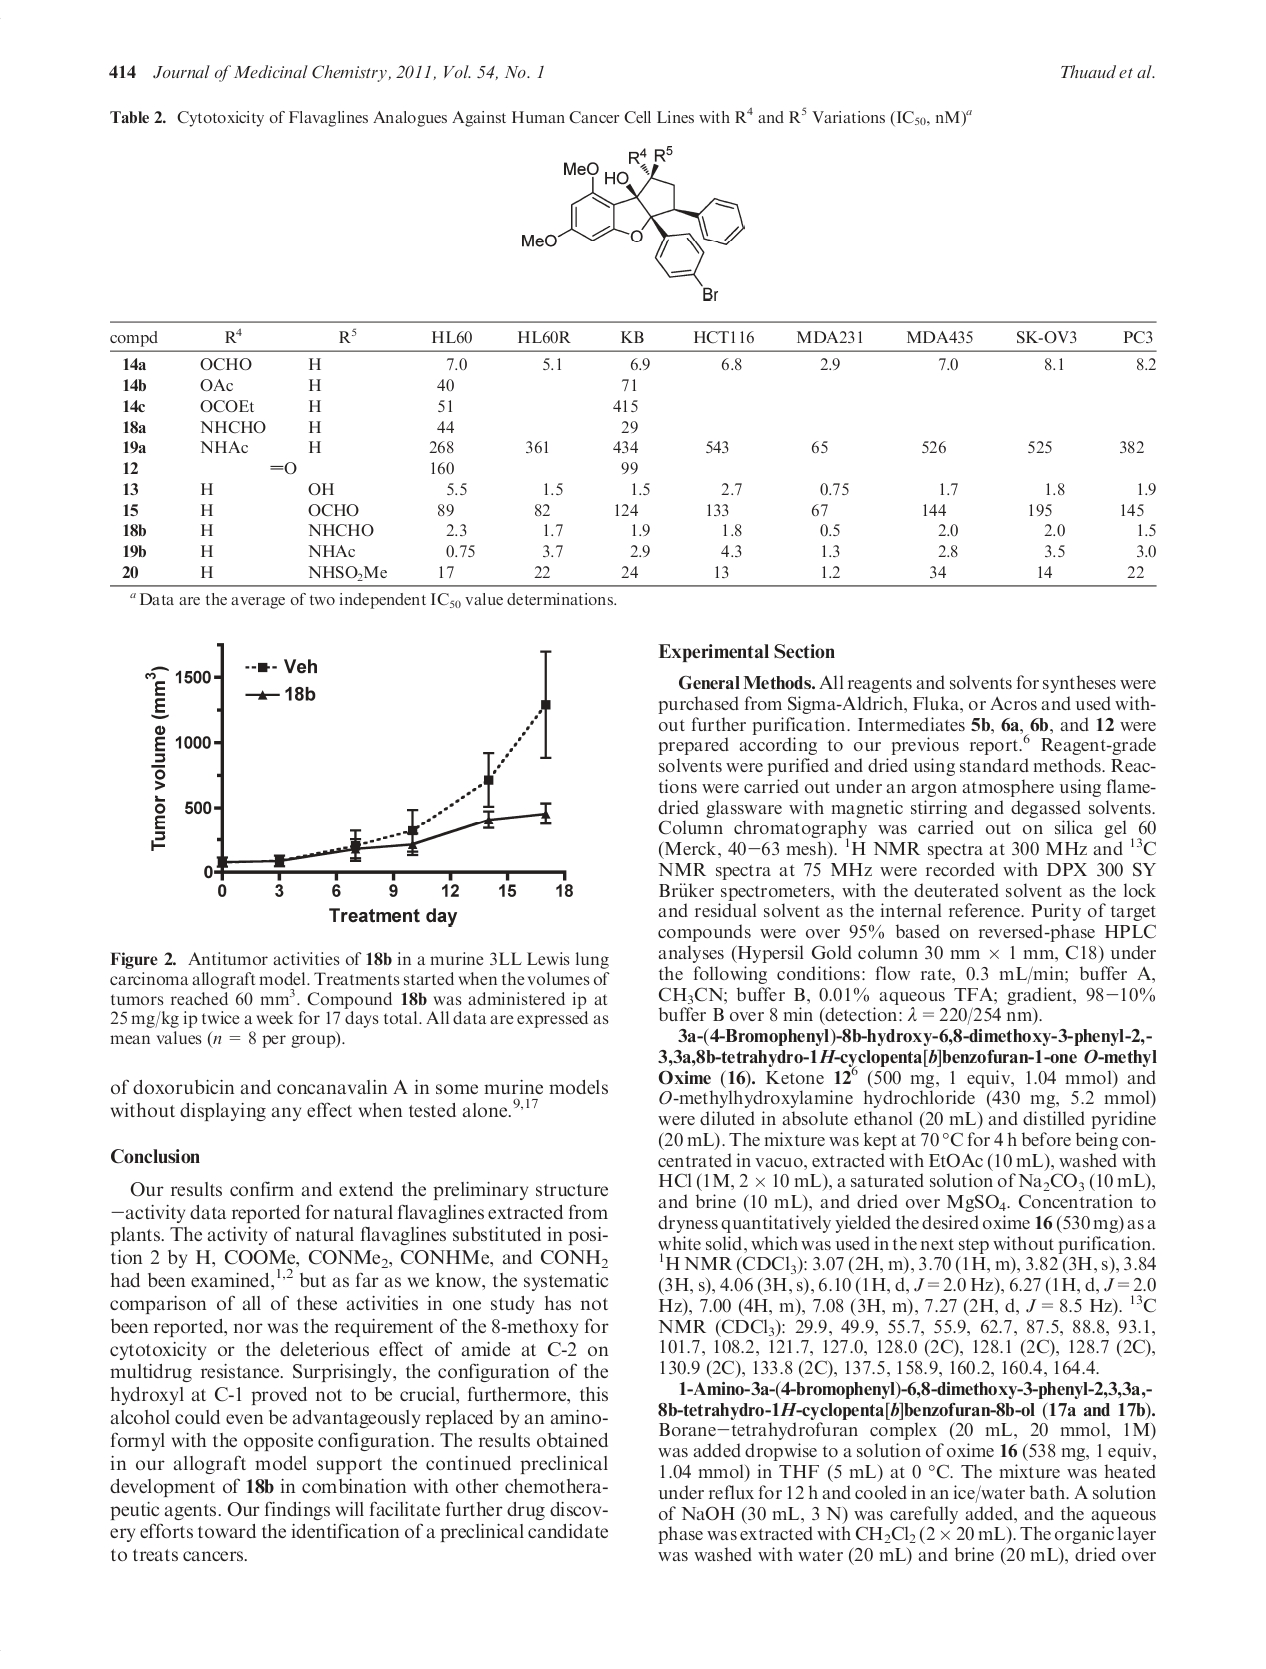exist_molecular: (513, 141, 750, 306)
